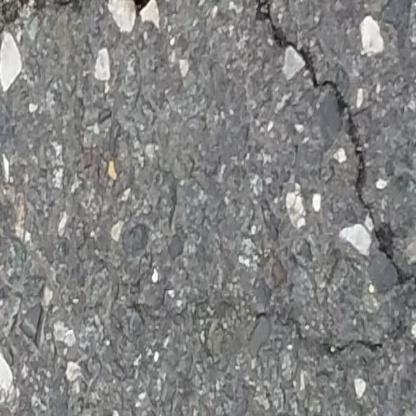Cracks: (251, 0, 416, 360), (0, 0, 169, 42)
